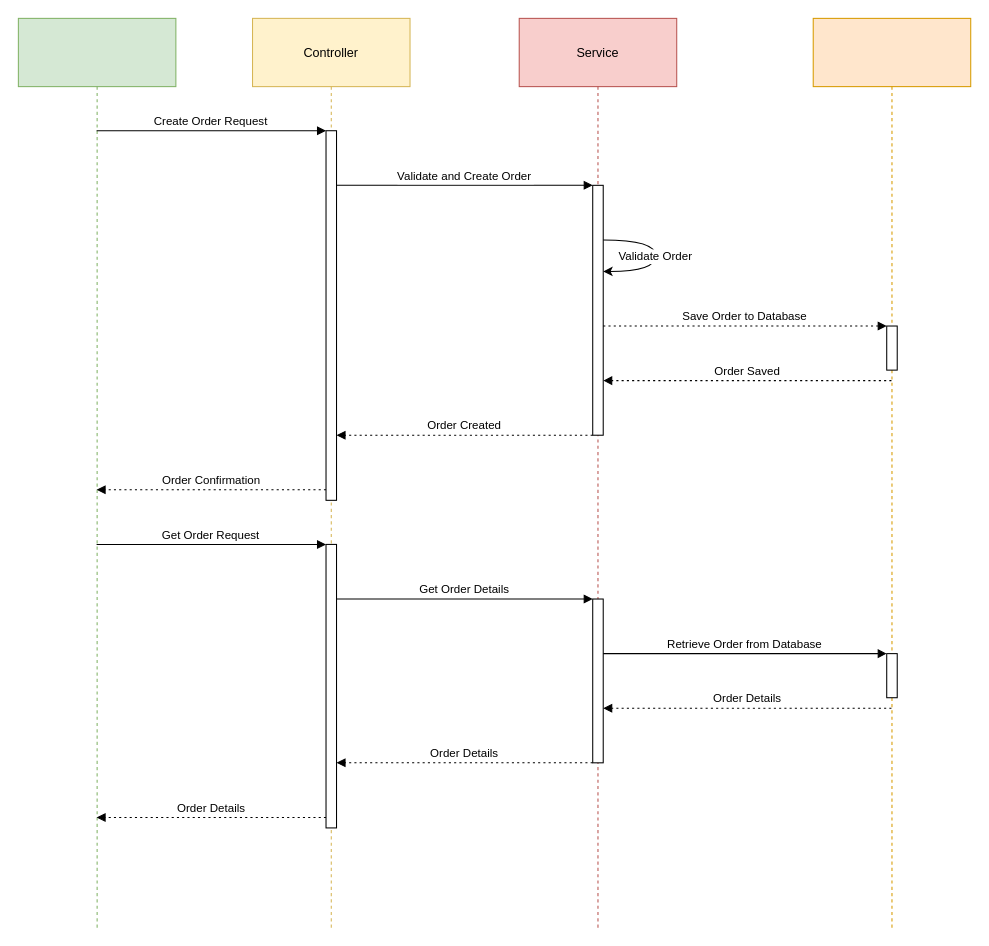
This 989x946 diagram has some shape labels left out. The box of each missing label's shape, as (x1, y1, x2, y2) in pixels:
Repository: (812, 17, 971, 928)
User: (17, 17, 176, 928)
